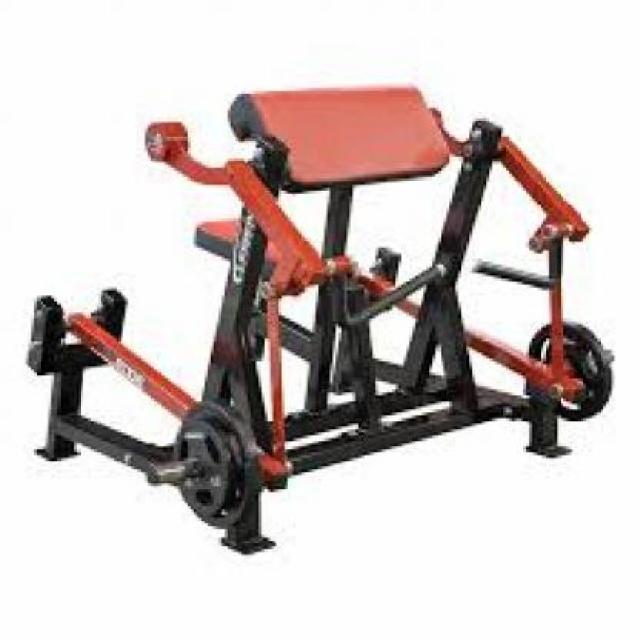arm curl machine: (24, 81, 614, 557)
